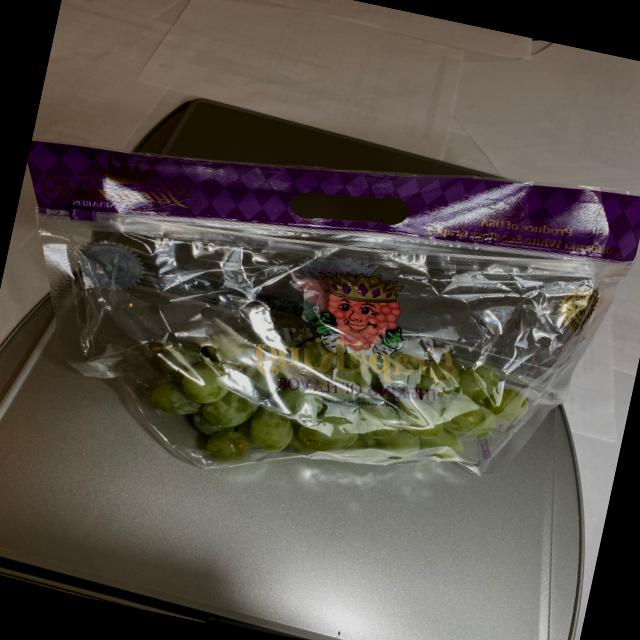grapes: (132, 302, 538, 512)
